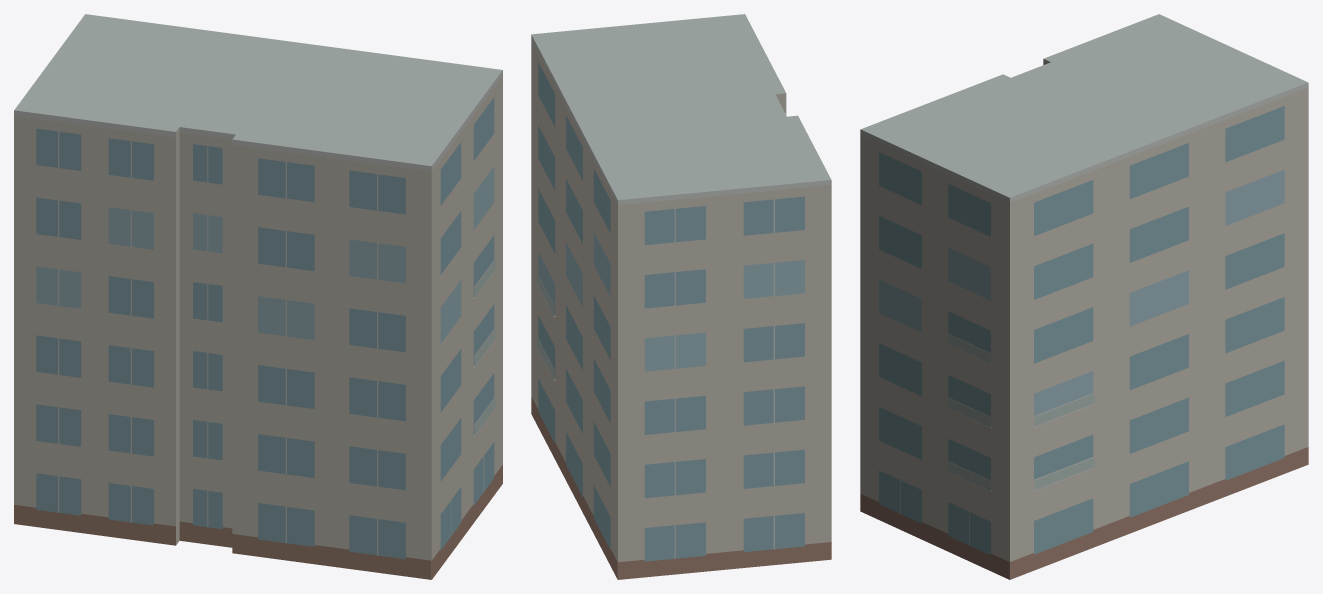
The model's file is survey-upis-33030598.glb.
3 renders of one model, left to right at view 1: azimuth 30°, elevation 25°; view 2: azimuth 150°, elevation 25°; view 3: azimuth 270°, elevation 25°, orthographic. The views are drawn at different scales.
Visible parts, largest first — view 1: survey-upis-33030598.tmp; view 2: survey-upis-33030598.tmp; view 3: survey-upis-33030598.tmp.
Part boxes in pixels (<box>): survey-upis-33030598.tmp: <box>14,14,502,579</box>; survey-upis-33030598.tmp: <box>531,14,831,579</box>; survey-upis-33030598.tmp: <box>860,14,1308,579</box>.
Size of the model in its own units: 18.89 by 18.3 by 19.46.
